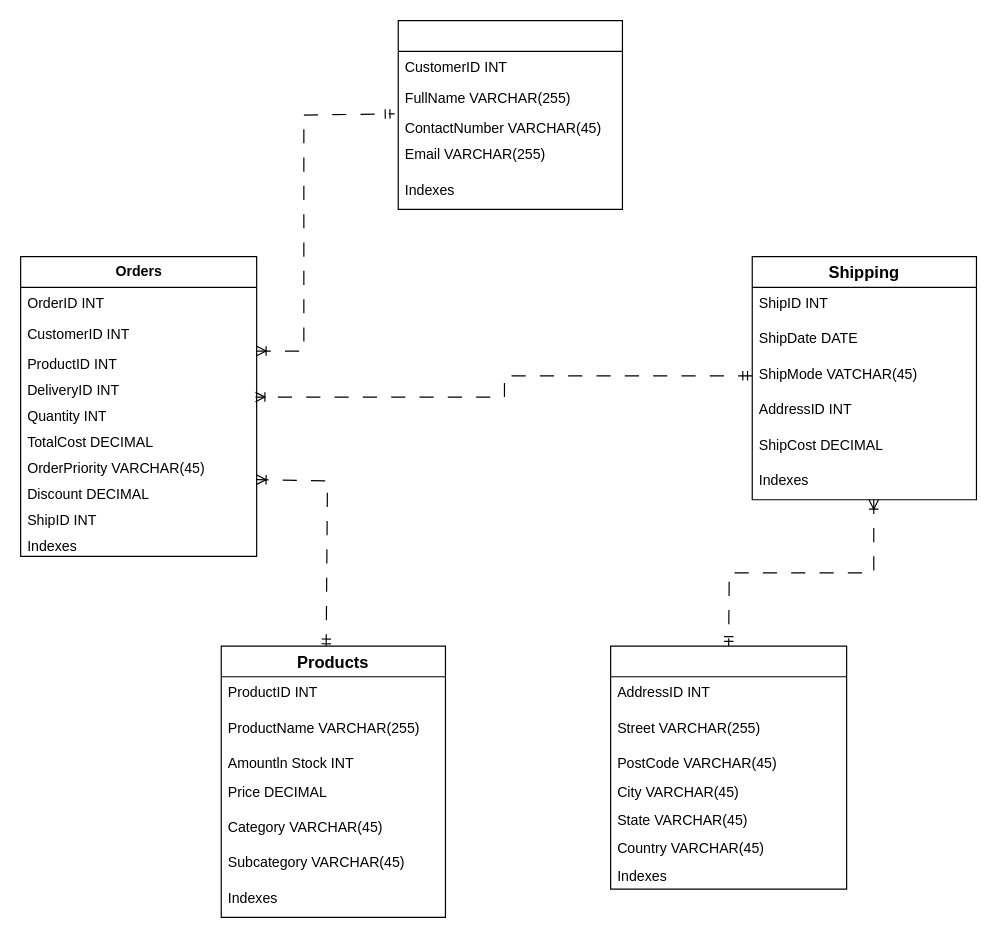
This 997x942 diagram has some shape labels left out. Here are the shapes that lost their labels. From the top down, the box of each, then its label:
(397, 19, 622, 209): Customers
(609, 645, 847, 889): DeliveryAddress
